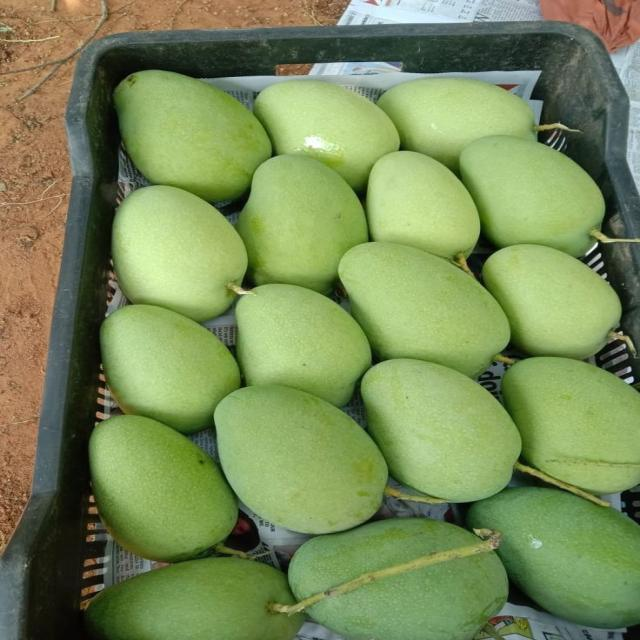mango: (215, 385, 387, 533), (467, 487, 639, 628), (361, 359, 520, 502), (339, 243, 509, 376), (89, 416, 237, 563), (114, 70, 271, 201), (502, 357, 639, 494), (112, 186, 246, 321), (236, 155, 367, 293), (100, 305, 239, 433), (85, 558, 304, 639), (307, 552, 507, 639), (460, 136, 605, 256), (236, 284, 371, 406), (254, 80, 399, 191), (483, 245, 621, 359), (378, 78, 535, 171), (367, 151, 479, 258)
